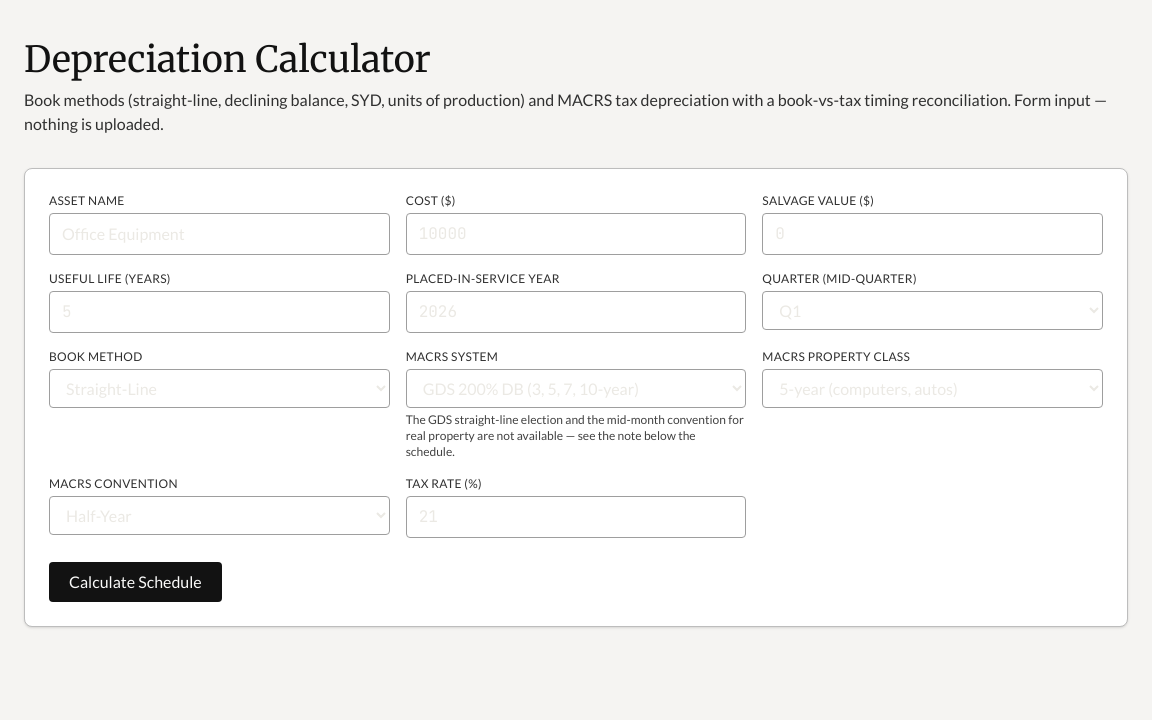
it: DepreciationPage › shows DB factor input only for declining balance method
The width and height of the screenshot is (1152, 720).
Expected: the text "DB Factor" is not shown
Select "Declining Balance" in the dropdown showing "Straight-Line" at [219, 388], box [49,369,390,408]
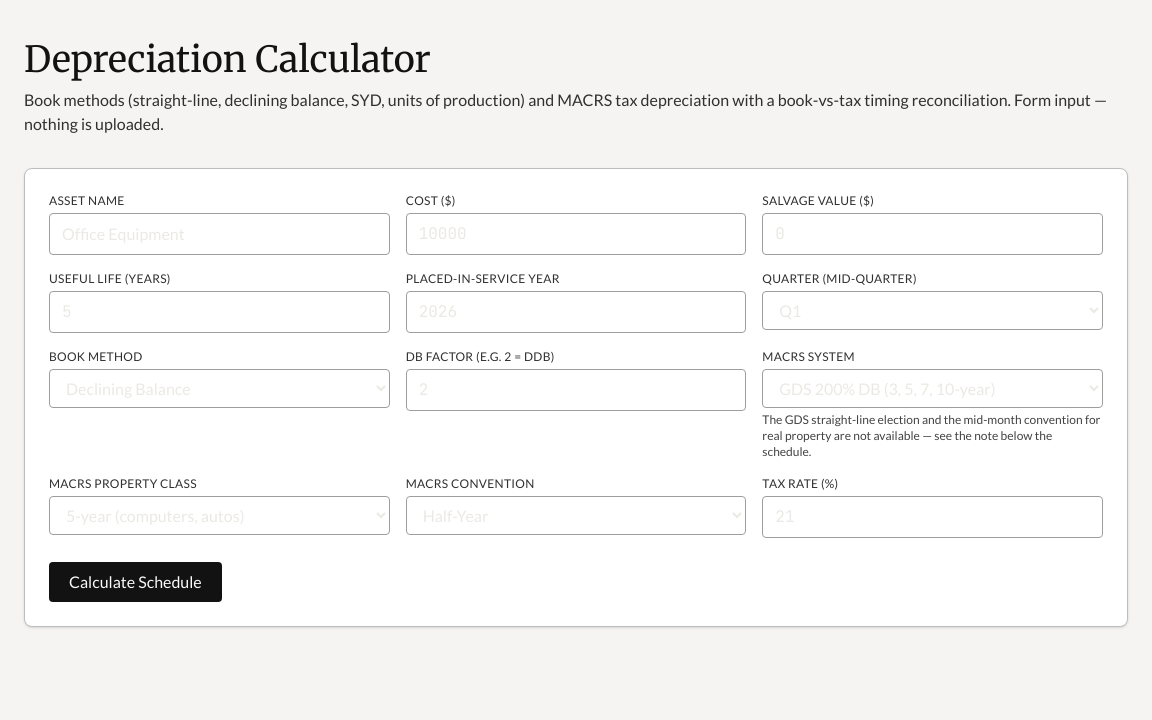
Now the text "DB Factor (e.g. 2 = DDB)" is shown, box [406,349,555,364]
